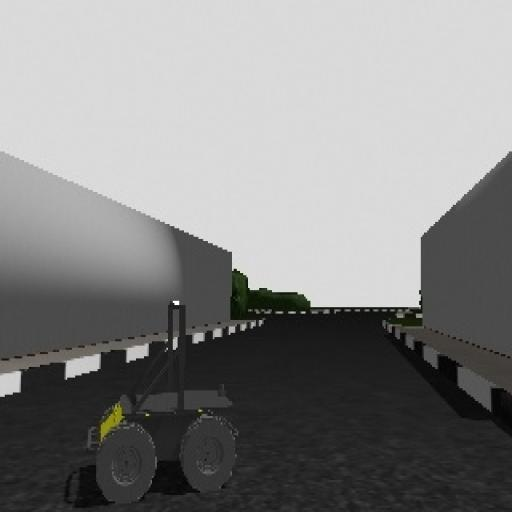huskya200: (70, 286, 252, 500)
